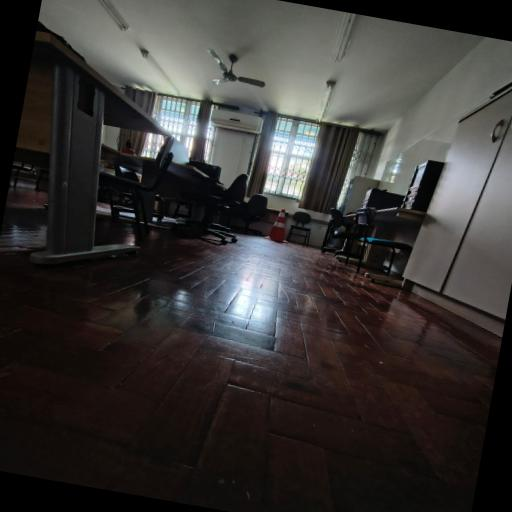cone: (262, 204, 296, 248)
